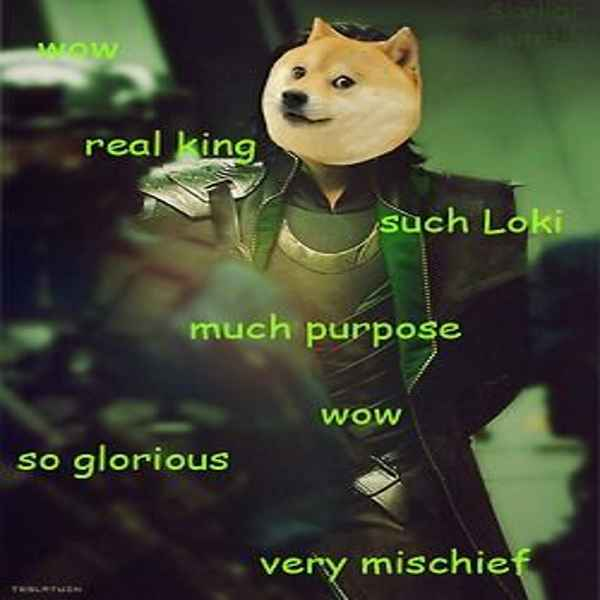doge: (257, 16, 429, 168)
